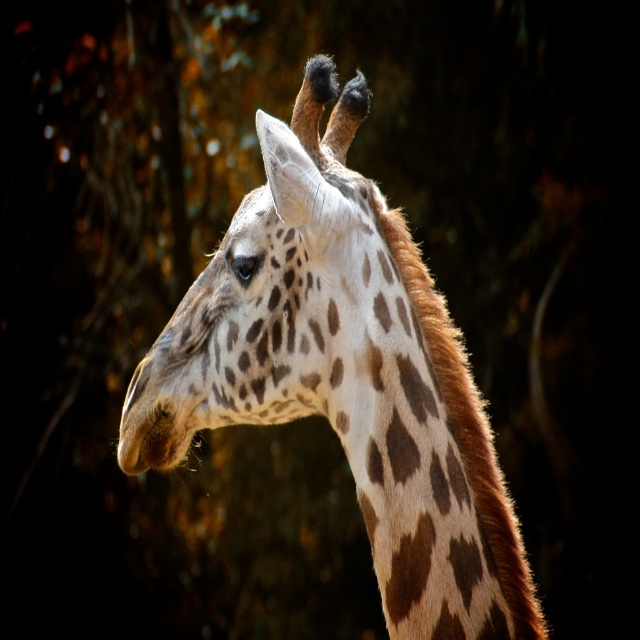Giraffe: (132, 63, 541, 640)
